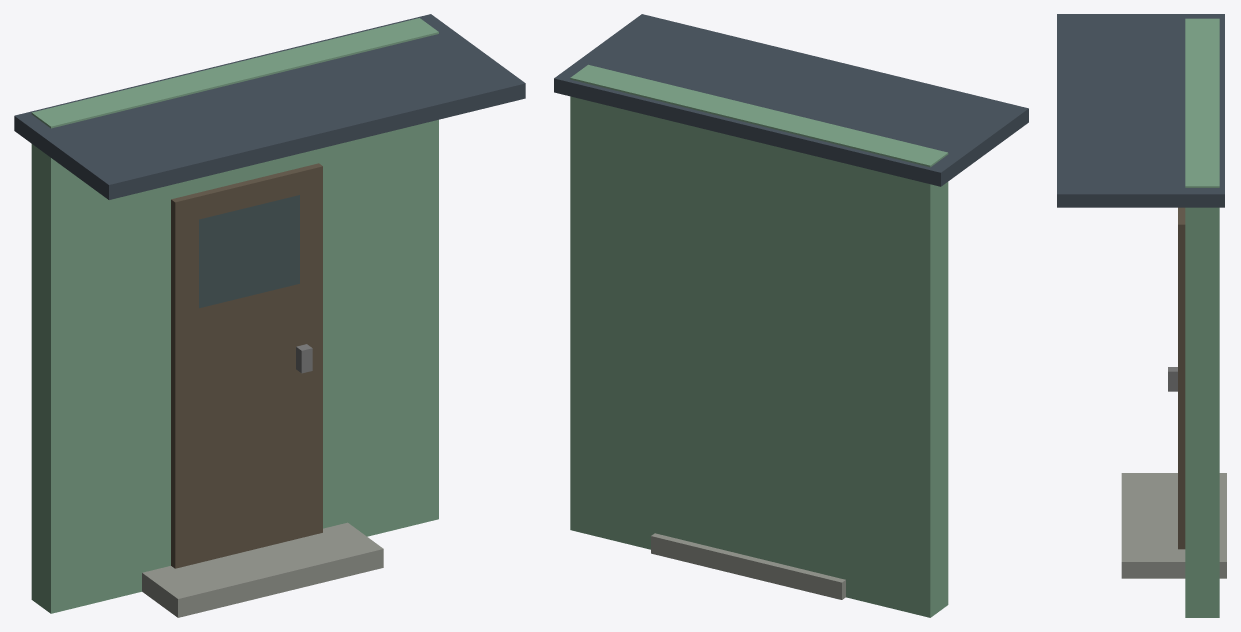
Rendered from entrance.fbx.
3 renders of one model, left to right at view 1: azimuth 30°, elevation 25°; view 2: azimuth 150°, elevation 25°; view 3: azimuth 270°, elevation 25°, orthographic. The views are drawn at different scales.
Parts seen in each view (by area): view 1: a2014/500/entrance; view 2: a2014/500/entrance; view 3: a2014/500/entrance.
Part boxes in pixels (x1,y1,x2,y2): a2014/500/entrance: (14, 14, 525, 617); a2014/500/entrance: (554, 14, 1028, 617); a2014/500/entrance: (1057, 14, 1226, 617).
Size of the model in its own units: 2.31 by 2.58 by 0.92.
